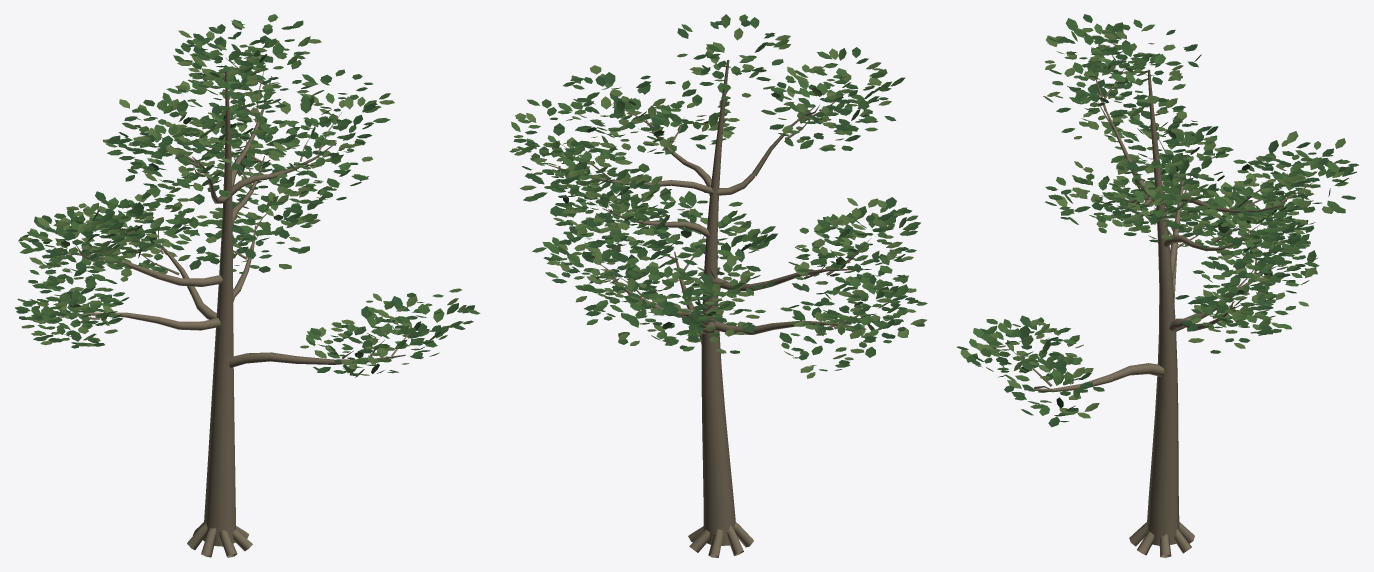
The model's file is Chene_Ancien_1_Low.fbx.
3 renders of one model, left to right at view 1: azimuth 30°, elevation 25°; view 2: azimuth 150°, elevation 25°; view 3: azimuth 270°, elevation 25°, orthographic.
Parts seen in each view (by area): view 1: Chene_Ancien_1_Low; view 2: Chene_Ancien_1_Low; view 3: Chene_Ancien_1_Low.
Part boxes in pixels (<box>): Chene_Ancien_1_Low: <box>15,14,480,557</box>; Chene_Ancien_1_Low: <box>509,14,927,557</box>; Chene_Ancien_1_Low: <box>957,14,1358,557</box>.
Bounding box in the file's own units: 849 × 1048 × 748.
